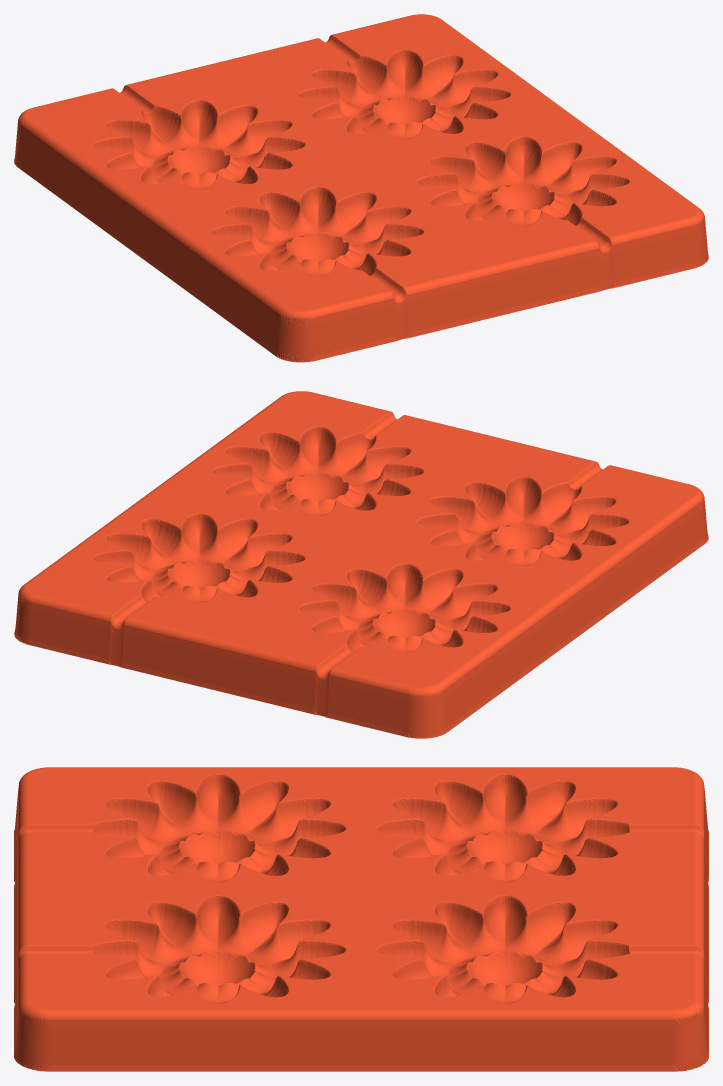
Rendered from mold.glb.
3 views of the same model, one above another, from view 1: azimuth 30°, elevation 25°; view 2: azimuth 150°, elevation 25°; view 3: azimuth 270°, elevation 25° (orthographic). The views are drawn at different scales.
Visible parts, largest first — view 1: geometry_0; view 2: geometry_0; view 3: geometry_0.
Part boxes in pixels (left/top/right/bottom): geometry_0: left=14, top=14, right=708, bottom=362; geometry_0: left=14, top=391, right=708, bottom=738; geometry_0: left=14, top=767, right=708, bottom=1071.
Size of the model in its own units: 0.1497 by 0.0155 by 0.1735.
